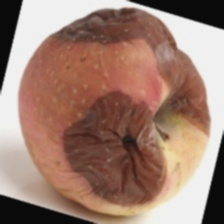apple: (32, 45, 168, 189)
